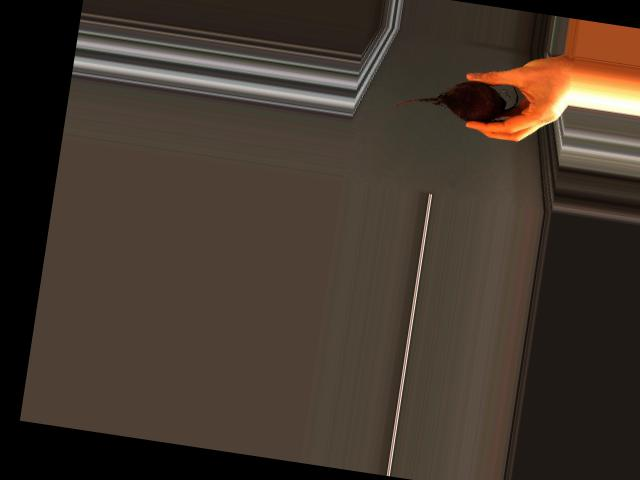beet: (389, 68, 518, 126)
